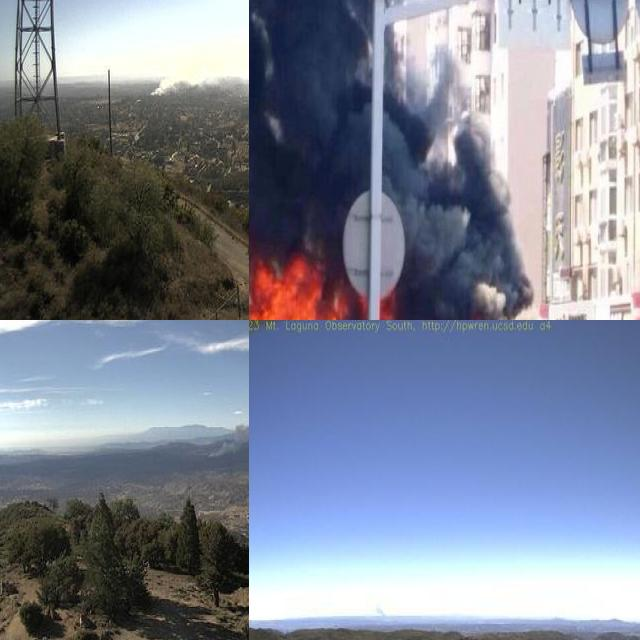fire: (251, 238, 543, 320)
smoke: (249, 0, 594, 320), (151, 53, 249, 102), (204, 394, 249, 464), (369, 599, 392, 624)
